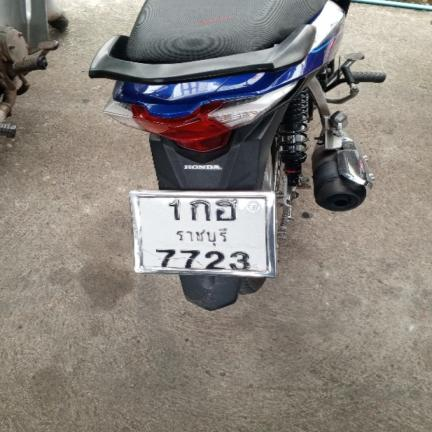1: (167, 197, 184, 221)
2: (204, 249, 226, 270)
3: (229, 249, 252, 270)
7: (177, 248, 202, 269), (155, 249, 176, 268)
A01: (187, 198, 212, 221)
A44: (213, 198, 239, 222)
RBR: (175, 227, 230, 248)
